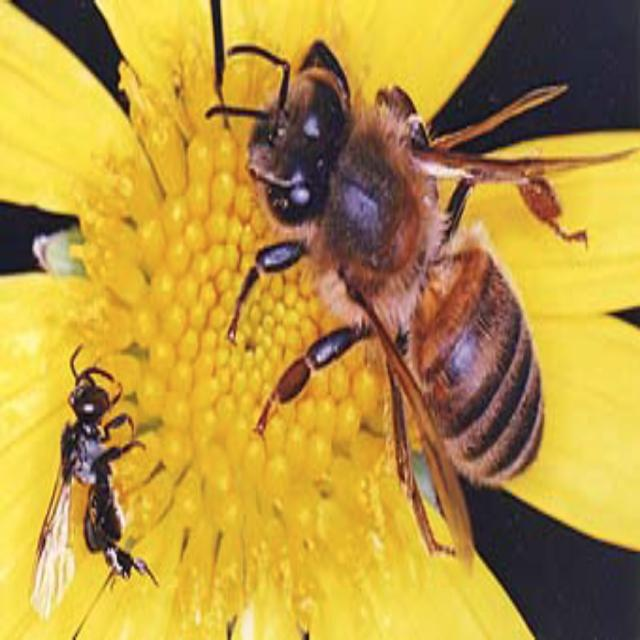Allodapula: (24, 320, 160, 628)
Lasioglossum: (210, 24, 604, 563)
